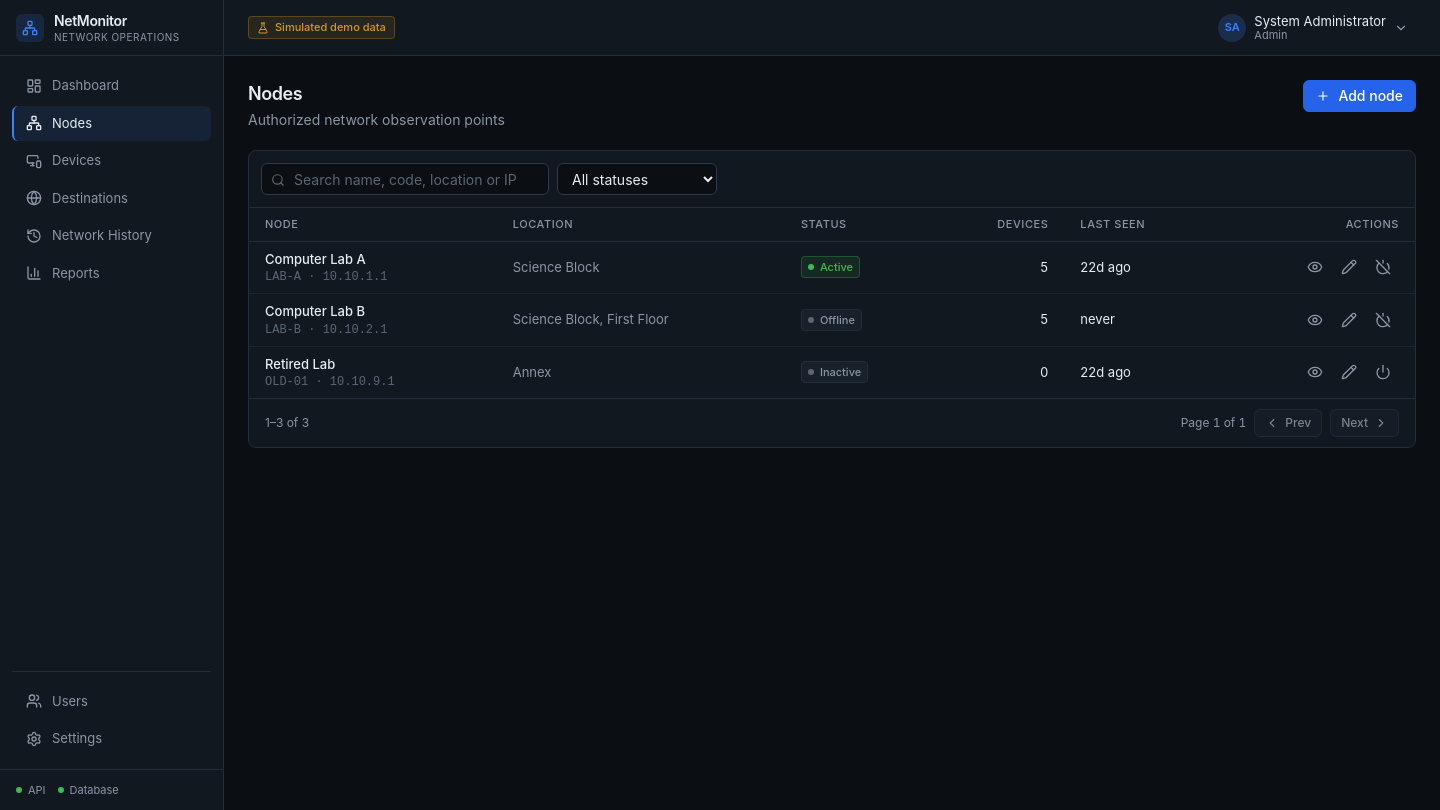
Scenario: NodesPage: admin actions › edits a node
Click the button named "Edit Computer Lab A" at [1349, 267], box [1333,251,1365,283]
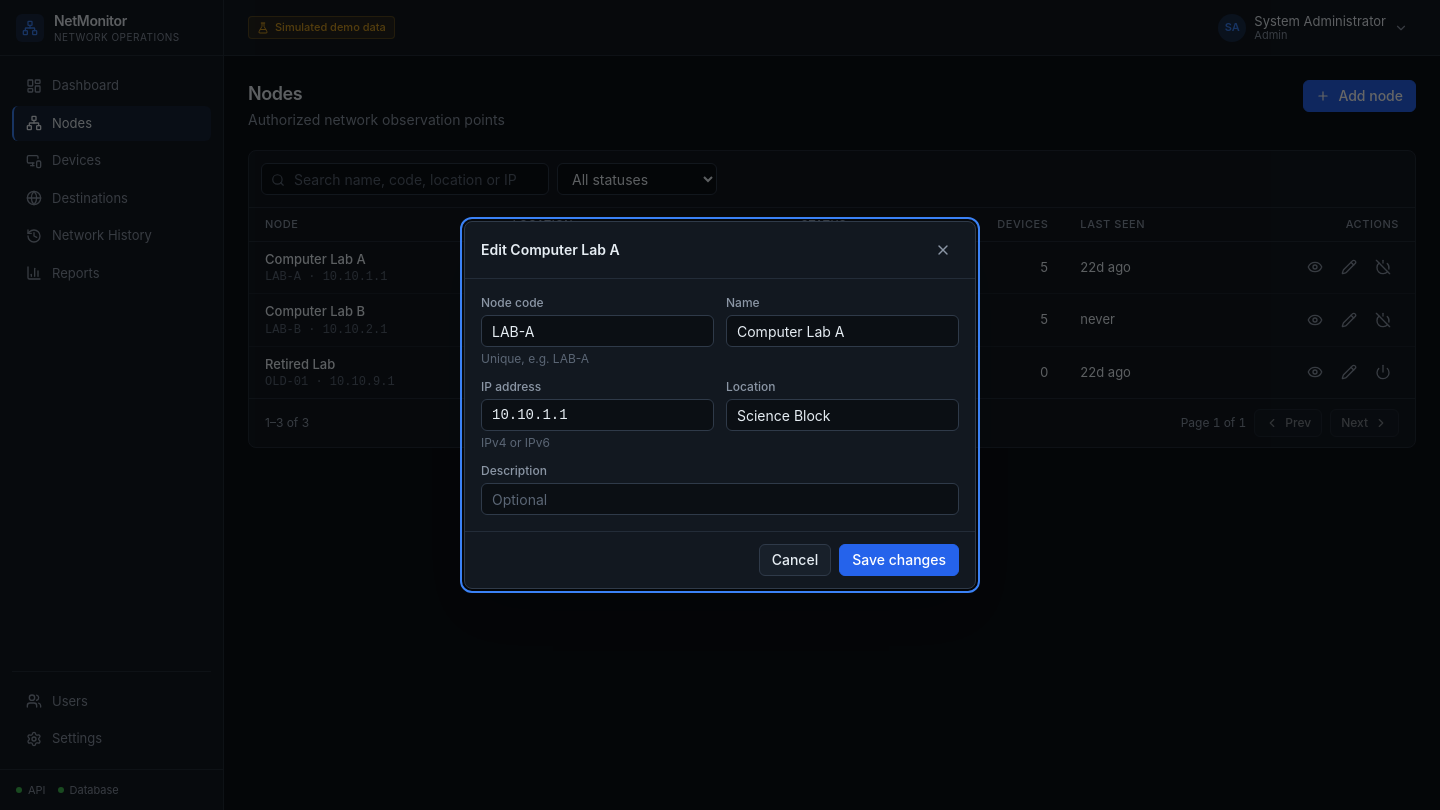
Expected: the field labelled "IP address" holds "10.10.1.1", [481,399,714,431]
Replace the text in the field labelled "Name" with "Renamed Lab" at [842, 331], box [726,315,959,347]
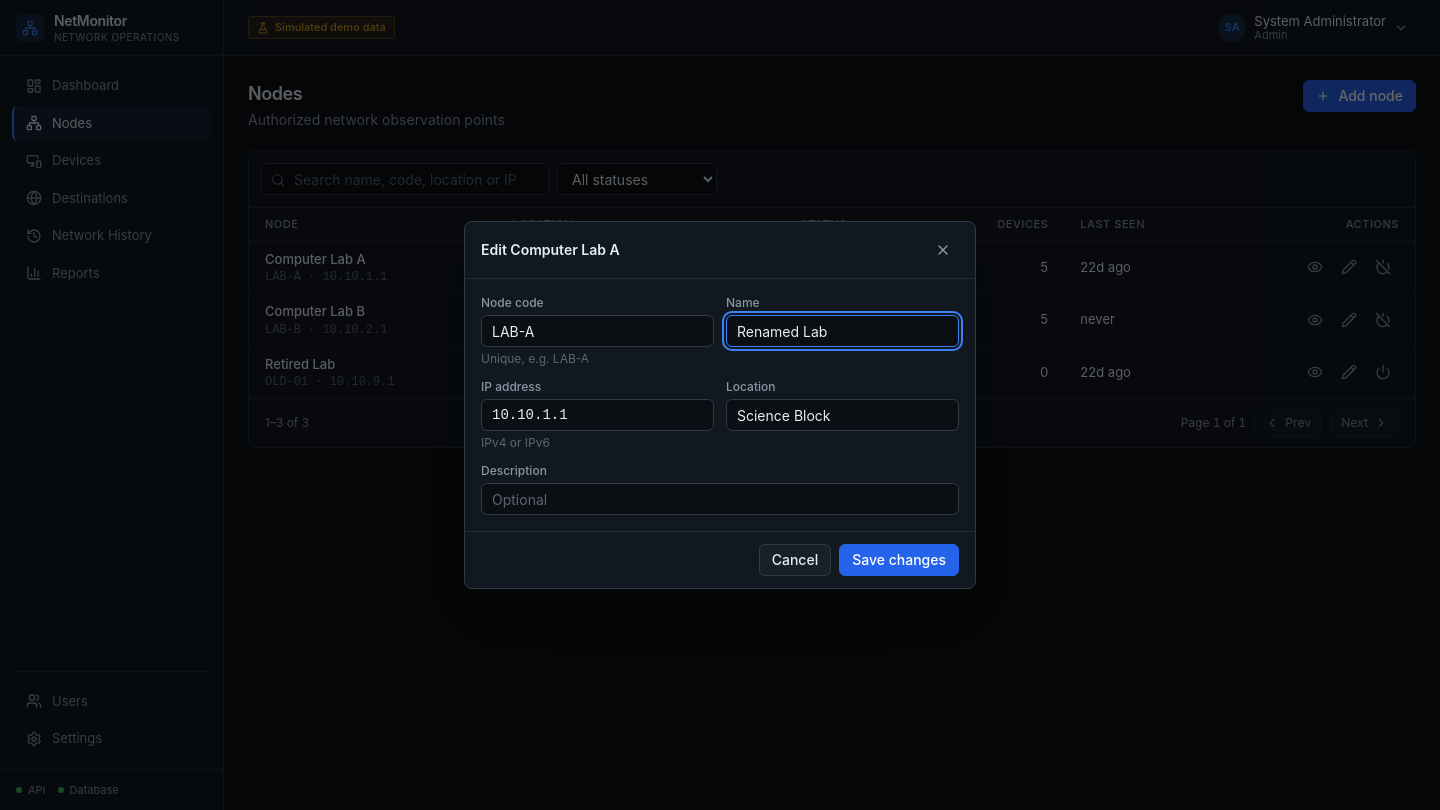
Click the button "Save changes" at [899, 560], box [839,544,959,576]
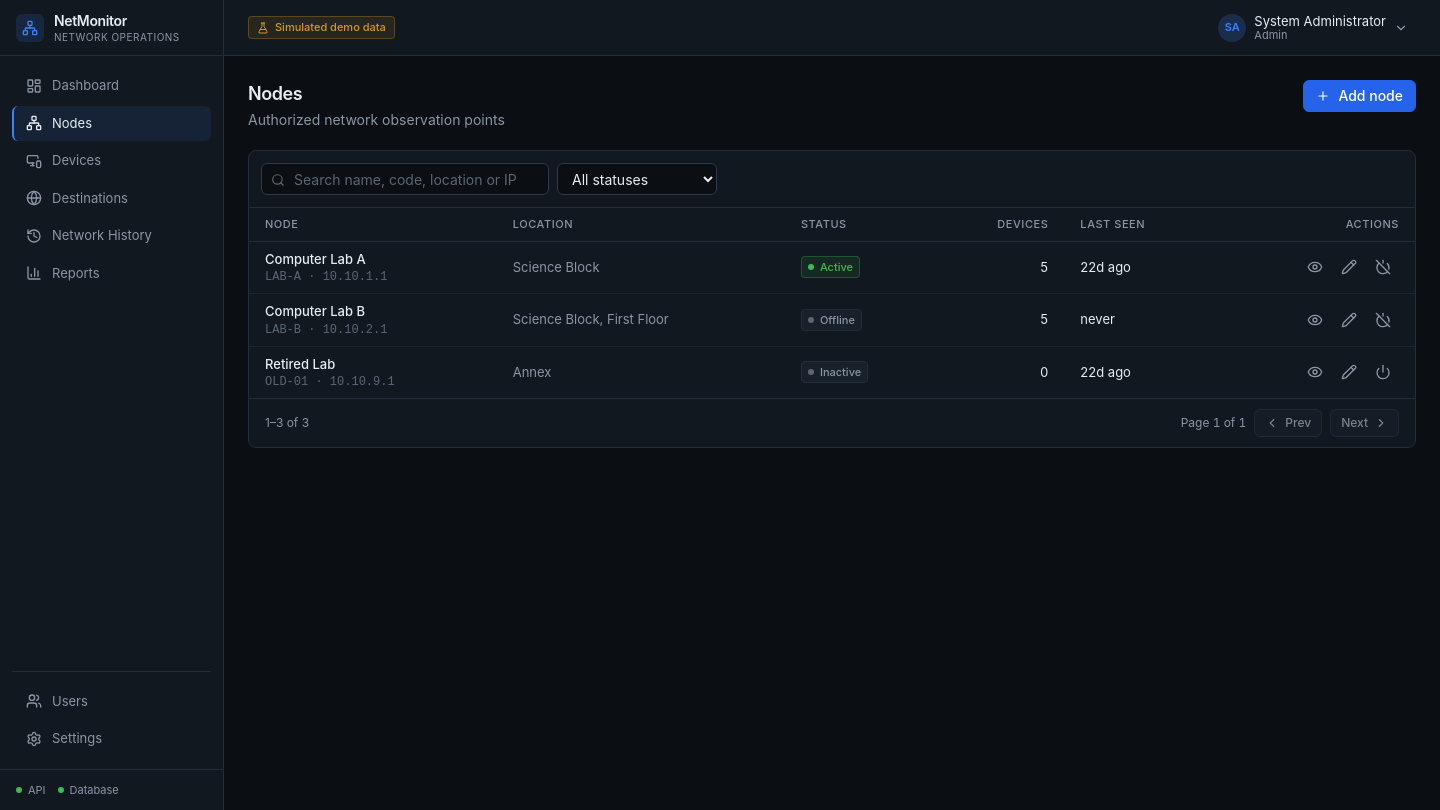
Expected: the dialog is gone
